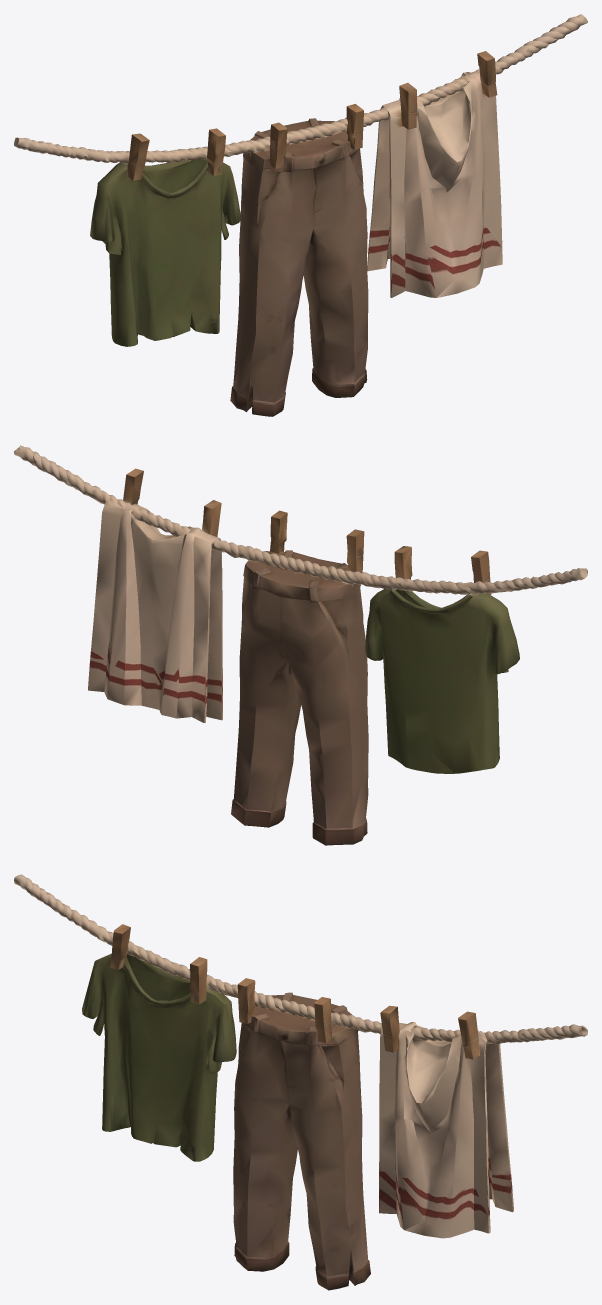
The model's file is decor_clothesline_idle.glb.
3 views of the same model, one above another, from view 1: azimuth 30°, elevation 25°; view 2: azimuth 150°, elevation 25°; view 3: azimuth 330°, elevation 25° (orthographic).
Visible parts, largest first — view 1: tripo_node_a9356a5a-624e-4271-9411-14c646994cc4; view 2: tripo_node_a9356a5a-624e-4271-9411-14c646994cc4; view 3: tripo_node_a9356a5a-624e-4271-9411-14c646994cc4.
Boxes of the visible parts, bbox=[...] form: tripo_node_a9356a5a-624e-4271-9411-14c646994cc4: bbox=[14, 14, 587, 416]; tripo_node_a9356a5a-624e-4271-9411-14c646994cc4: bbox=[14, 445, 587, 845]; tripo_node_a9356a5a-624e-4271-9411-14c646994cc4: bbox=[14, 874, 587, 1290].
Bounding box in the file's own units: 1.5 × 0.8246 × 0.1861.
Materials: 1 (1 with a texture image).
